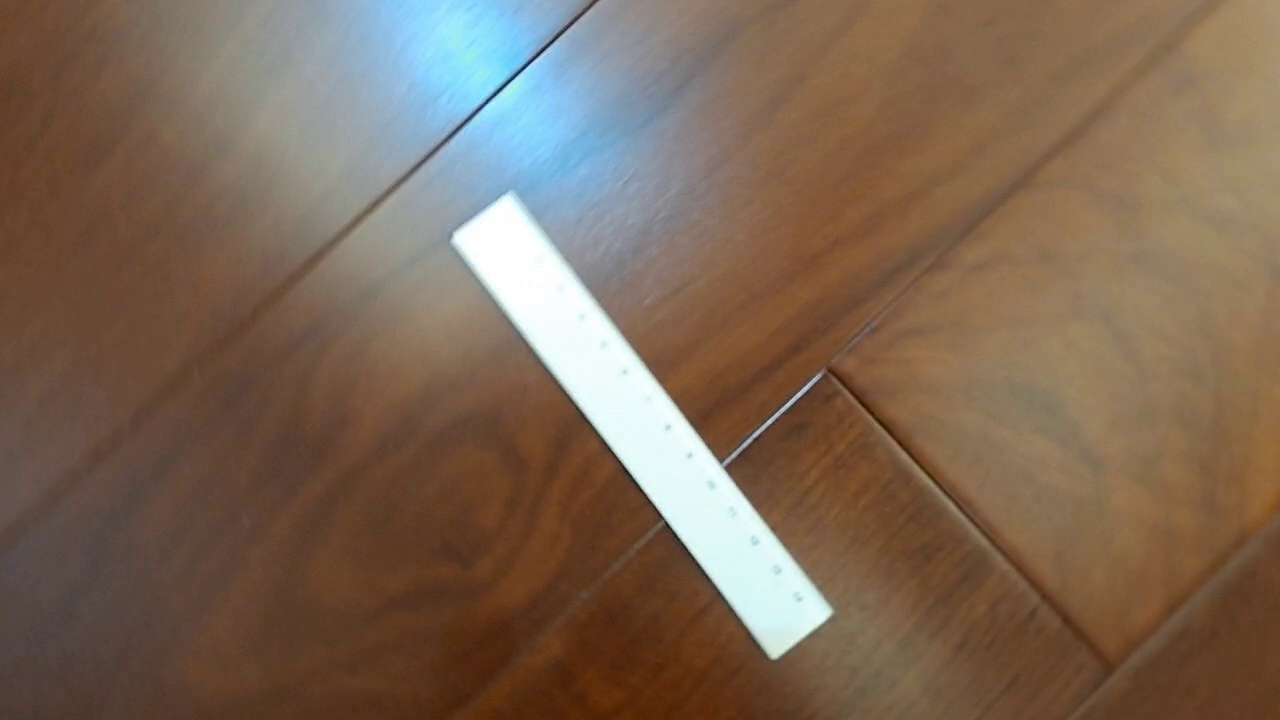ruler: (448, 188, 836, 661)
